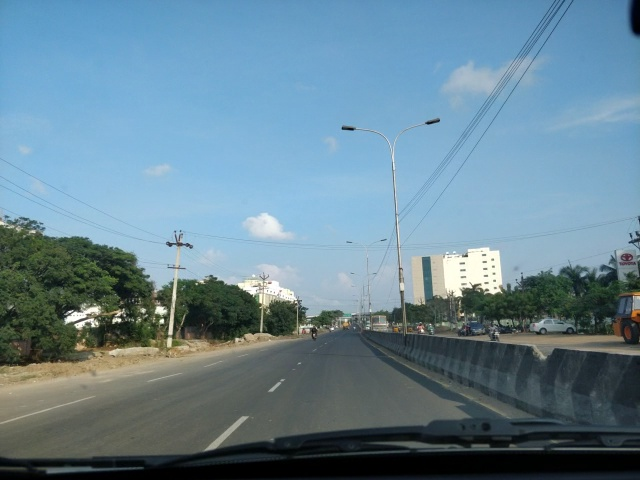auto: (406, 316, 419, 348), (391, 319, 401, 345), (392, 326, 400, 333), (407, 325, 413, 332)
car: (531, 318, 577, 337), (466, 320, 486, 335), (329, 327, 335, 331)
motorbike: (414, 313, 426, 345), (427, 321, 441, 346), (490, 323, 501, 341), (310, 323, 318, 340), (417, 323, 425, 334), (429, 324, 435, 334)
truck: (612, 290, 639, 343), (372, 313, 388, 332), (343, 321, 349, 329)
